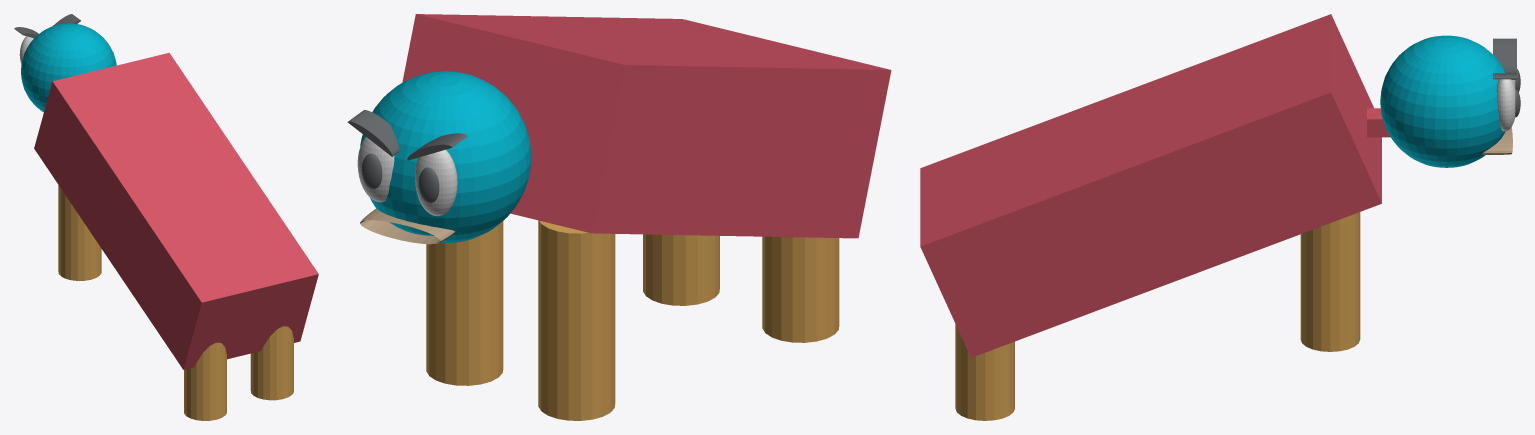
The model's file is monster-dog-down-two pos.gltf.
3 views of the same model, side by side, from view 1: azimuth 30°, elevation 25°; view 2: azimuth 150°, elevation 25°; view 3: azimuth 270°, elevation 25° (orthographic). The views are drawn at different scales.
Parts seen in each view (by area): view 1: Mesh_Mesh_head_geo.001_lambert2SG.001; view 2: Mesh_Mesh_head_geo.001_lambert2SG.001; view 3: Mesh_Mesh_head_geo.001_lambert2SG.001.
Part boxes in pixels (x1=…): Mesh_Mesh_head_geo.001_lambert2SG.001: x1=14, y1=14, x2=318, y2=420; Mesh_Mesh_head_geo.001_lambert2SG.001: x1=347, y1=14, x2=891, y2=420; Mesh_Mesh_head_geo.001_lambert2SG.001: x1=920, y1=14, x2=1520, y2=420.
Size of the model in its own units: 28 by 58 by 90.44.
